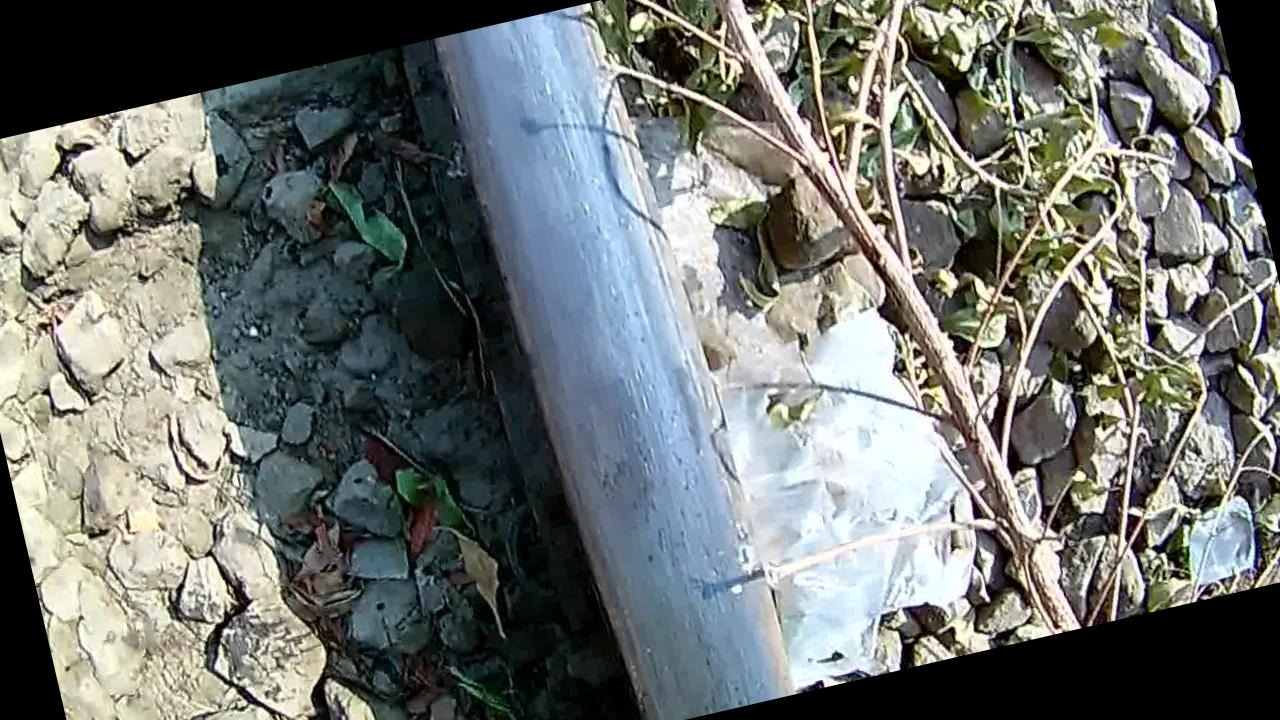bolt_missing: (513, 302, 702, 577)
